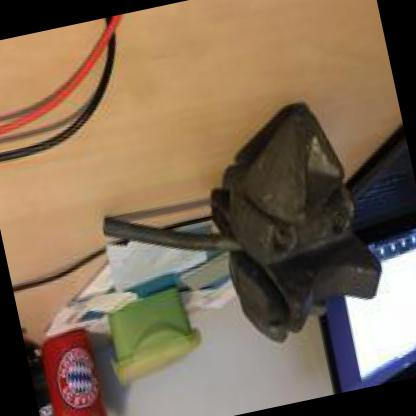Twistlock: (77, 80, 404, 386)
